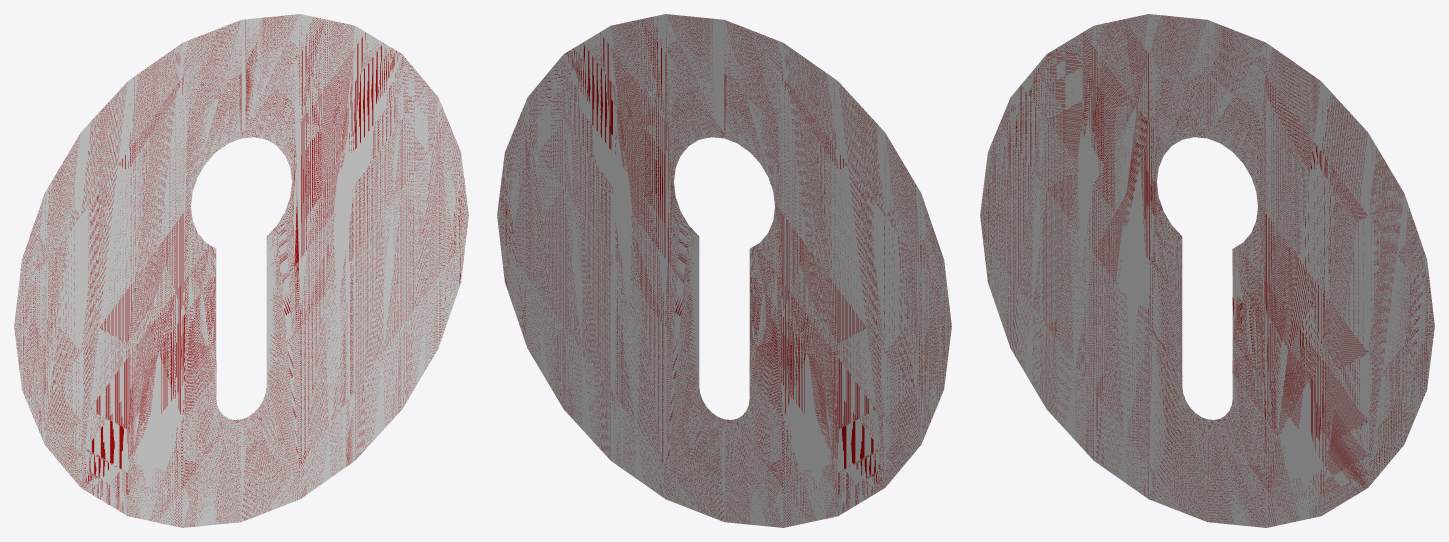
Rendered from original-9.obj.
The picture shows the model from 3 angles, left to right: view 1: azimuth 30°, elevation 25°; view 2: azimuth 150°, elevation 25°; view 3: azimuth 330°, elevation 25°; orthographic projection.
Visible parts, largest first — view 1: #ID32; view 2: #ID32; view 3: #ID32.
Boxes of the visible parts, x1,y1,x2,y2 form: #ID32: (14,14,468,527); #ID32: (497,14,951,527); #ID32: (980,14,1434,527).
Bounding box in the file's own units: 0.0394 × 0.0416 × 0.
